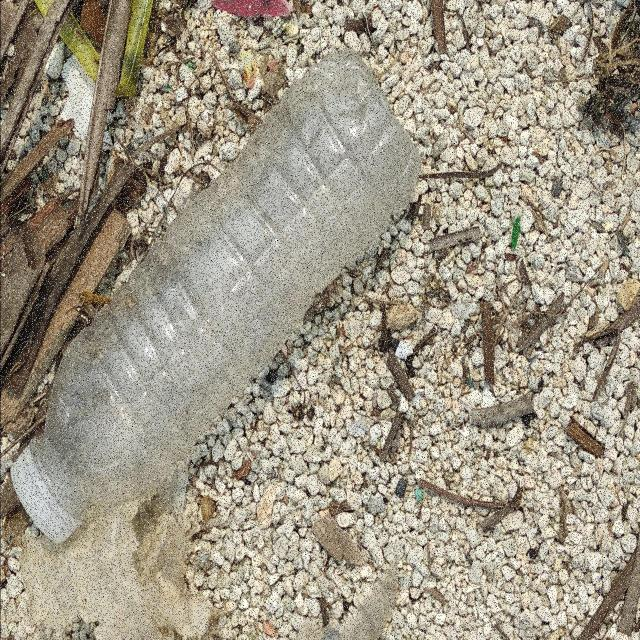plastic_waste: (11, 45, 425, 546)
